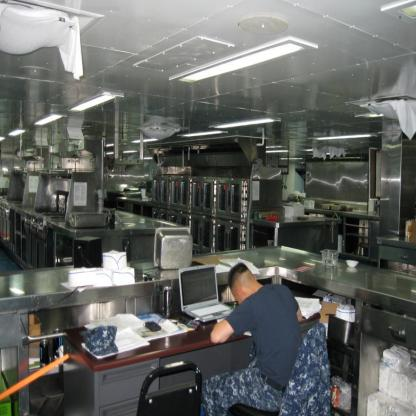board: (180, 264, 234, 325)
